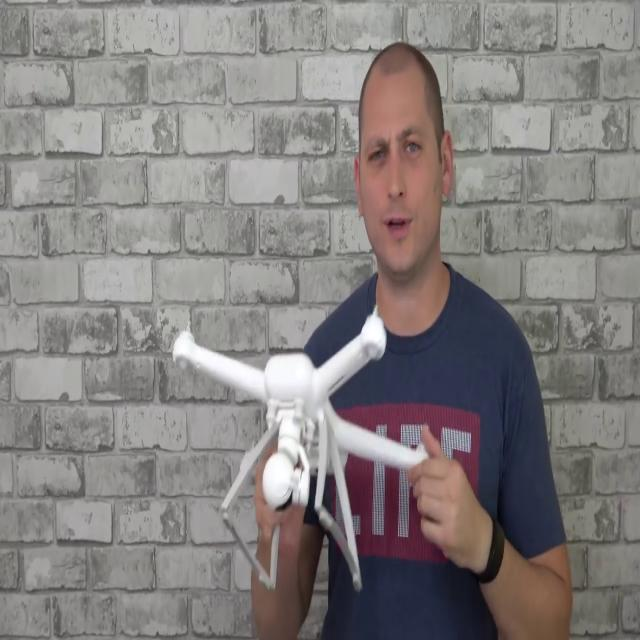drone: (164, 292, 442, 488)
